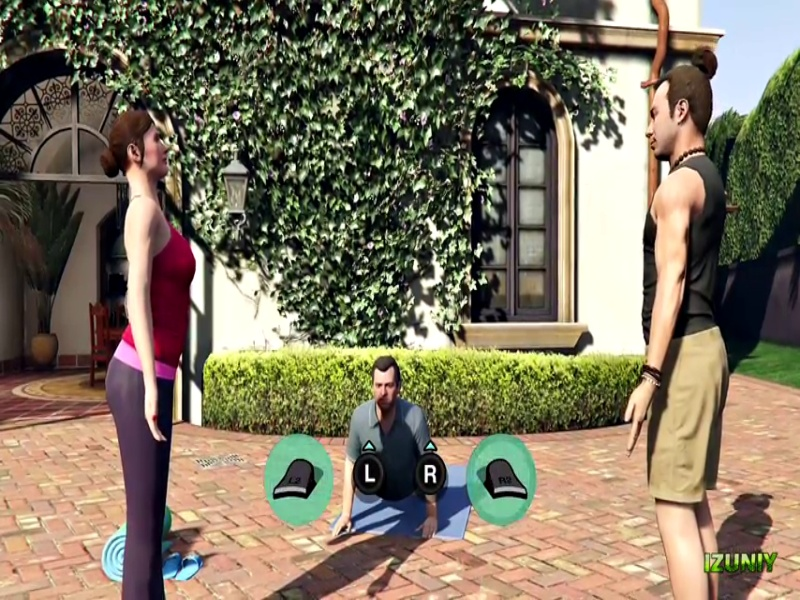human: (348, 355, 446, 540)
